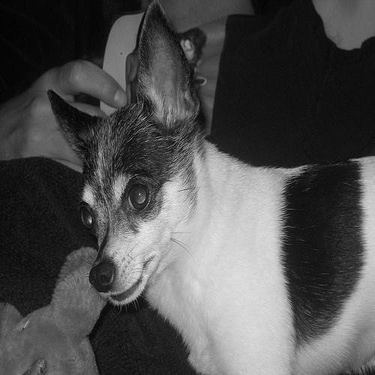dog: (37, 4, 373, 372)
